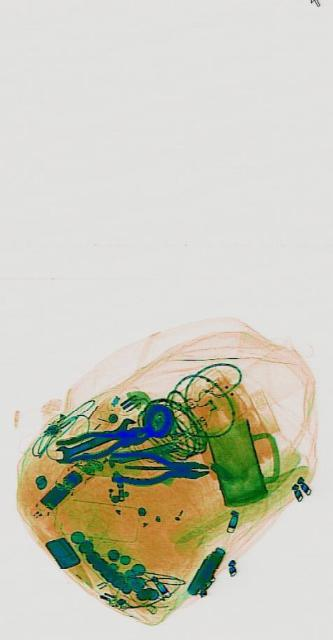Pliers: (54, 417, 150, 468), (109, 448, 208, 486)
Wrench: (53, 413, 135, 463)
